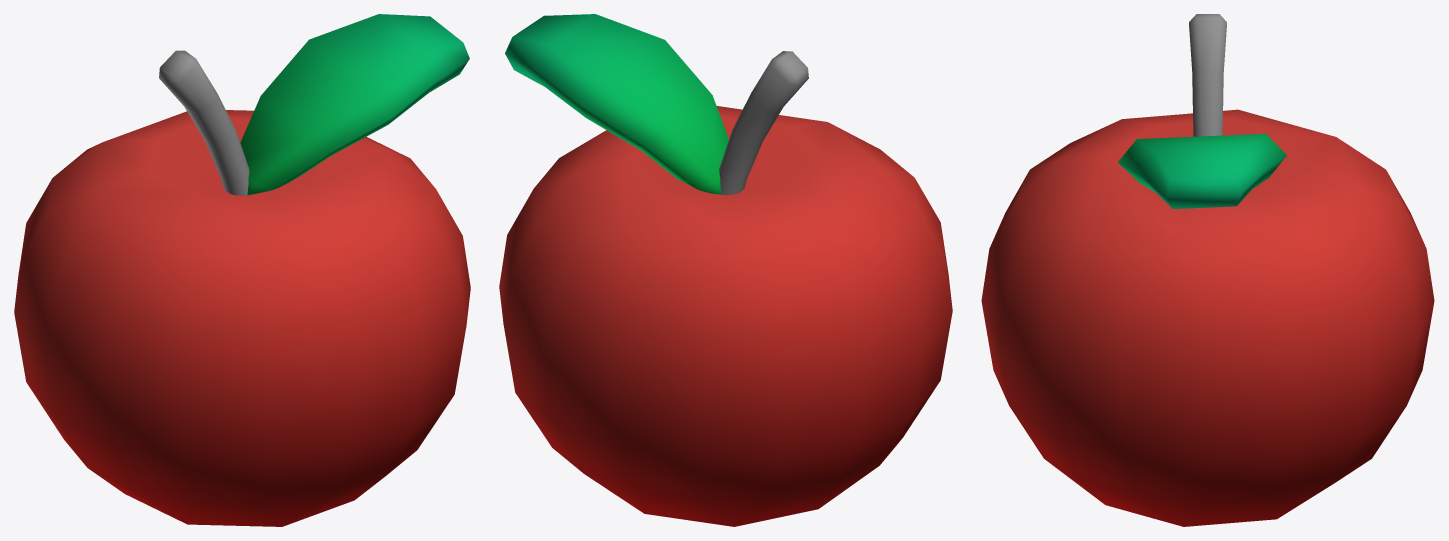
Rendered from apple_001.fbx.
3 renders of one model, left to right at view 1: azimuth 30°, elevation 25°; view 2: azimuth 150°, elevation 25°; view 3: azimuth 270°, elevation 25°, orthographic.
Visible parts, largest first — view 1: apple_001; view 2: apple_001; view 3: apple_001.
Part boxes in pixels (x1,y1,x2,y2): apple_001: (14,14,470,526); apple_001: (499,14,952,526); apple_001: (981,14,1434,526).
Bounding box in the file's own units: 78.26 × 76.64 × 84.15.
